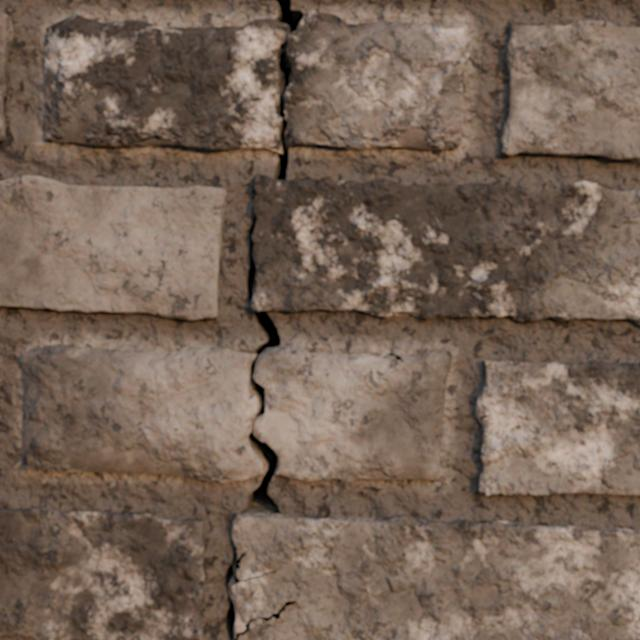broken_brick: (44, 11, 471, 151), (21, 344, 259, 482), (253, 345, 451, 482)
crack: (222, 37, 639, 639), (0, 175, 226, 320), (0, 507, 205, 639), (474, 361, 639, 496), (500, 20, 639, 162), (0, 12, 13, 141), (269, 0, 304, 34), (386, 353, 404, 363), (443, 349, 451, 356), (108, 469, 127, 470), (131, 470, 148, 471)
